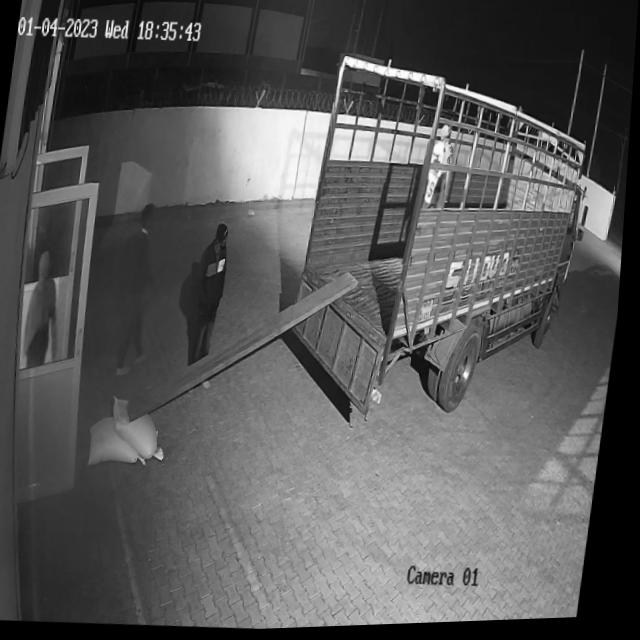sack: (110, 393, 177, 464), (91, 414, 159, 468)
